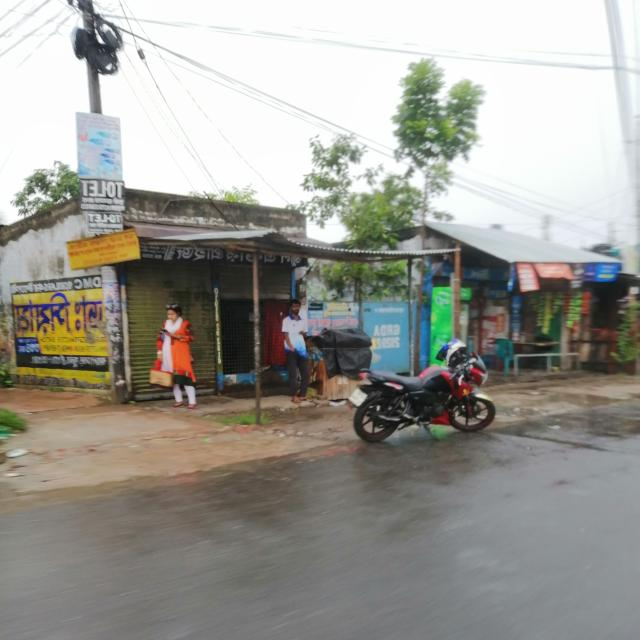Motorbike: (345, 338, 502, 443)
